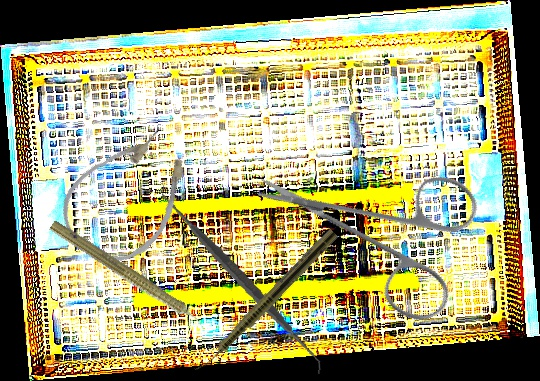Cannula: (45, 110, 213, 282)
Handpiece: (192, 226, 339, 378), (44, 216, 215, 339)
Iris Scissors: (252, 101, 513, 362)
Spatula Surgical: (142, 184, 341, 375)
